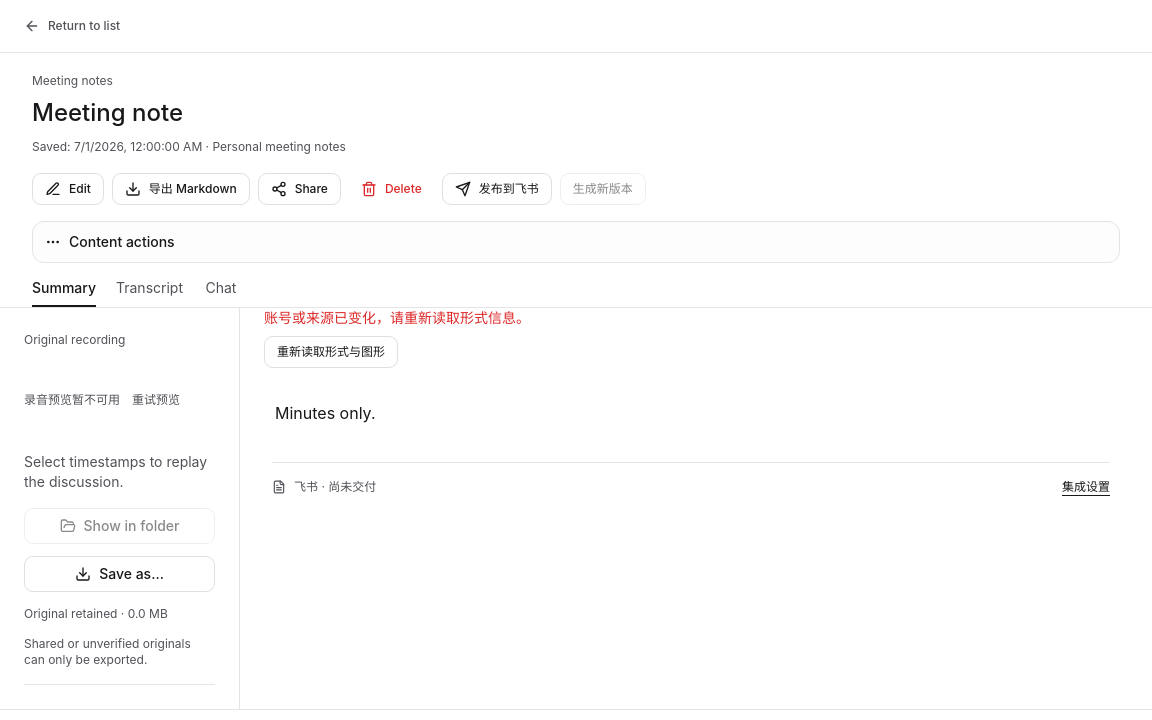
Scenario: NoteEditor transcript evidence › merges an exactly matching body title only in reading and exports unchanged saved Markdown
This screenshot has width=1152, height=720.
Expected: the text "Minutes only." is shown, [275,403,376,423]
Expected: the number of headings "Meeting note" is 1, [32,98,183,127]
Step 1. Click the button "Content actions" → (110,242), box [45,233,175,250]
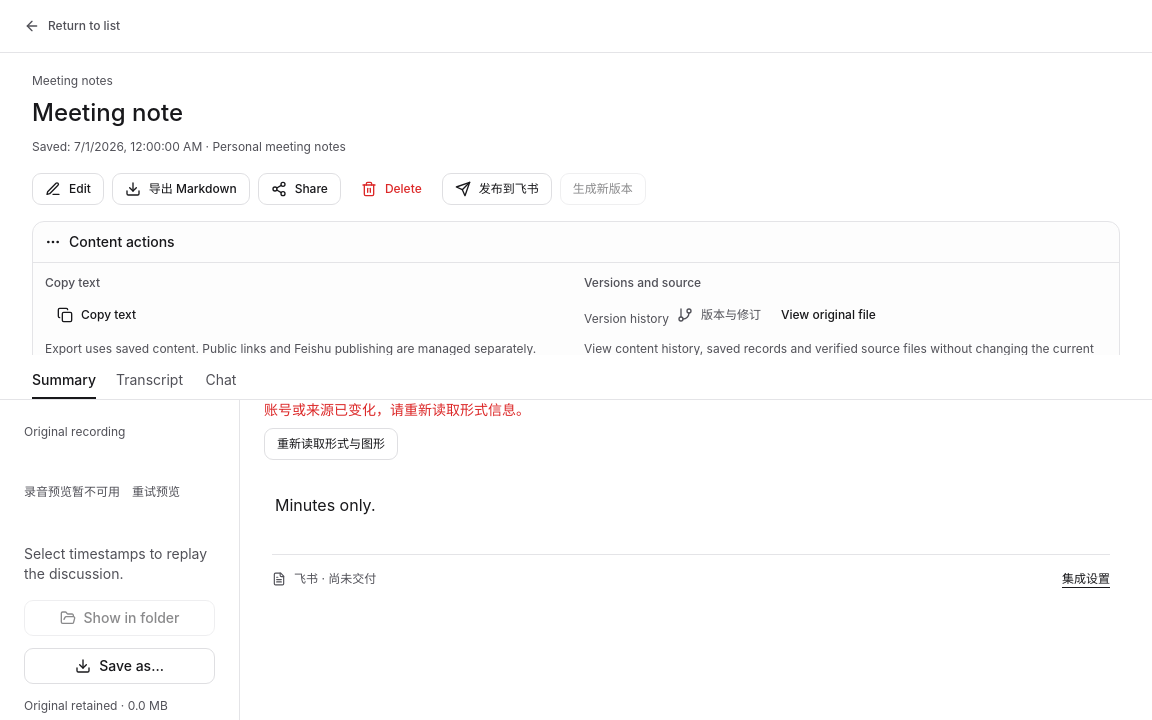
Step 2. Click the button "导出 Markdown" → (181,189), box [112,173,250,205]
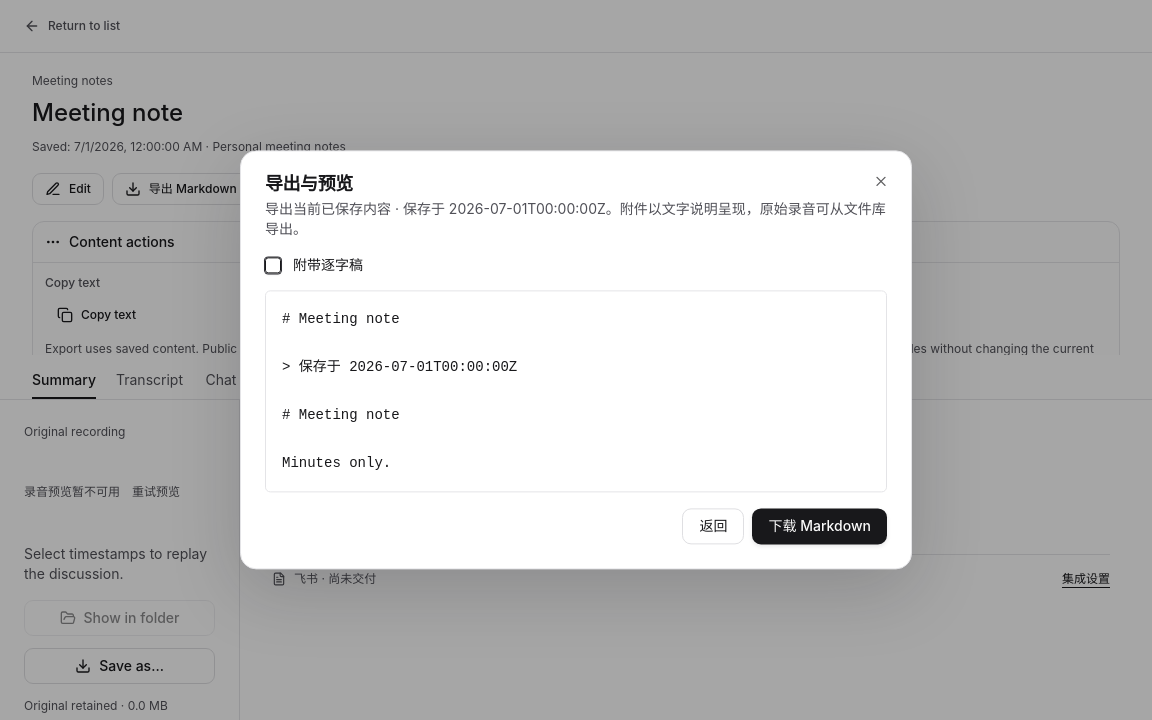
Now the text "# Meeting note" is shown, box [282,312,517,472]
